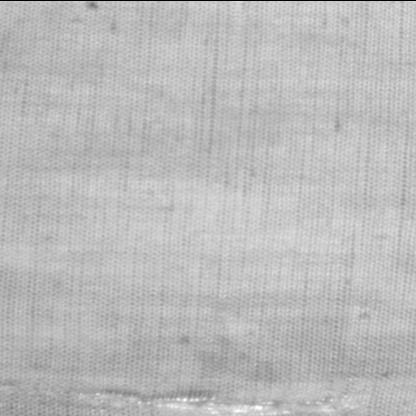thread error: (46, 385, 373, 415)
